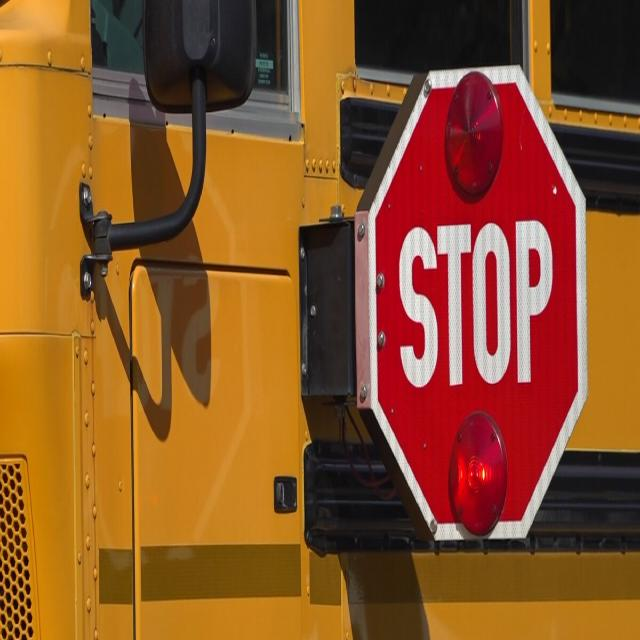stop: (361, 64, 587, 550)
